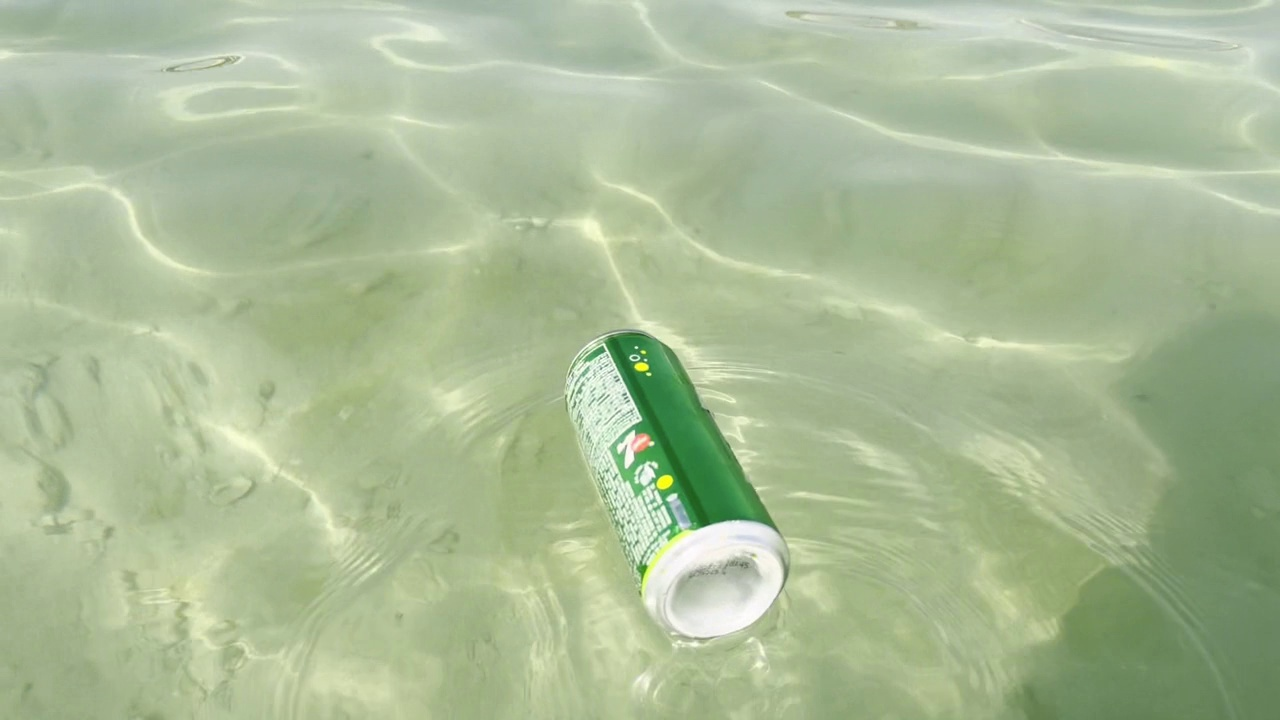debris: (556, 310, 798, 654)
